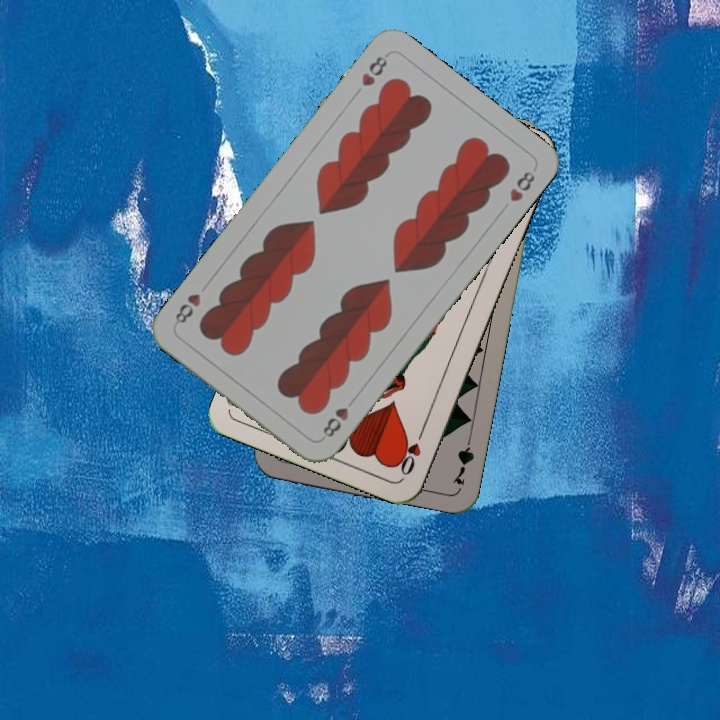G7: (448, 430, 477, 488)
H8: (319, 392, 359, 440), (357, 49, 391, 89)
HO: (394, 423, 428, 478)
